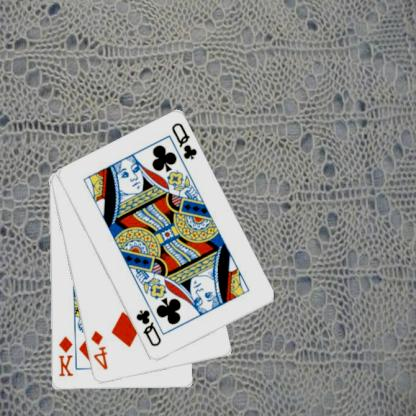4D: (90, 328, 110, 372)
KD: (57, 334, 76, 378)
QC: (170, 120, 201, 161), (134, 307, 164, 348)
